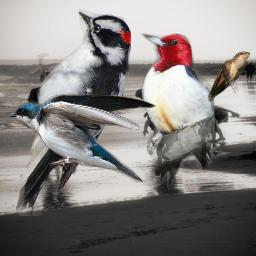Cuckoo: (206, 51, 250, 103)
Swallow: (8, 92, 156, 183)
Woodpecker: (13, 9, 131, 216), (138, 33, 218, 192)
